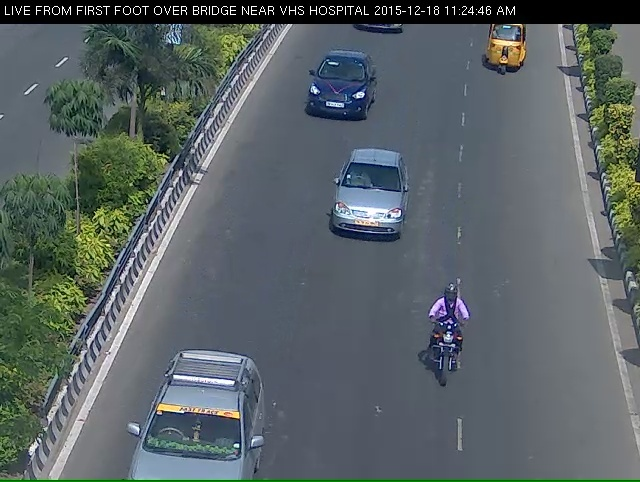Auto: (483, 25, 530, 82)
Car: (104, 363, 263, 481), (329, 149, 410, 258), (301, 49, 374, 133)
Person: (414, 289, 478, 411)
